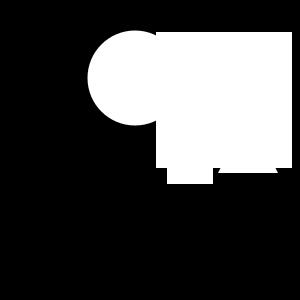circle: (156, 32, 292, 168), (167, 138, 213, 184)
rectangle: (88, 31, 183, 126)
triangle: (218, 113, 278, 173)
